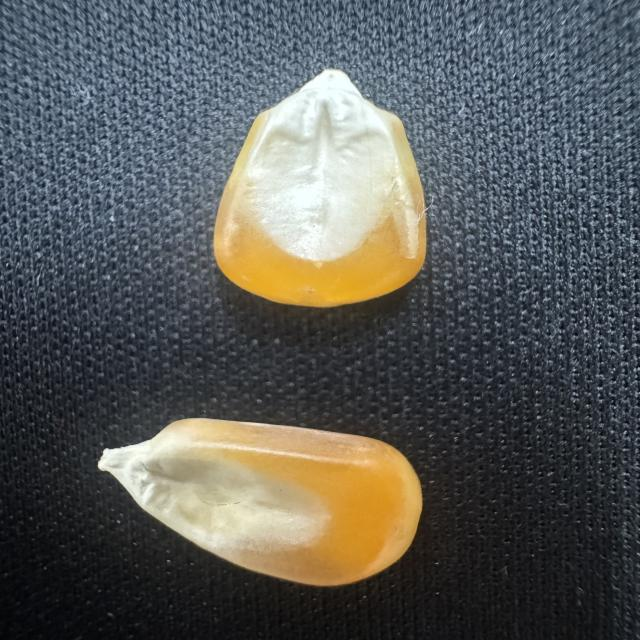Good-Seed: (89, 405, 433, 593), (193, 64, 438, 315)
